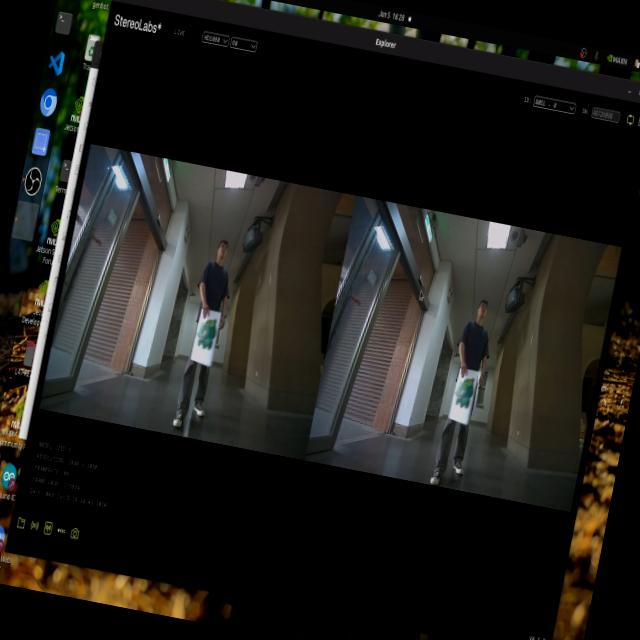green: (194, 310, 224, 358), (448, 374, 474, 424)
